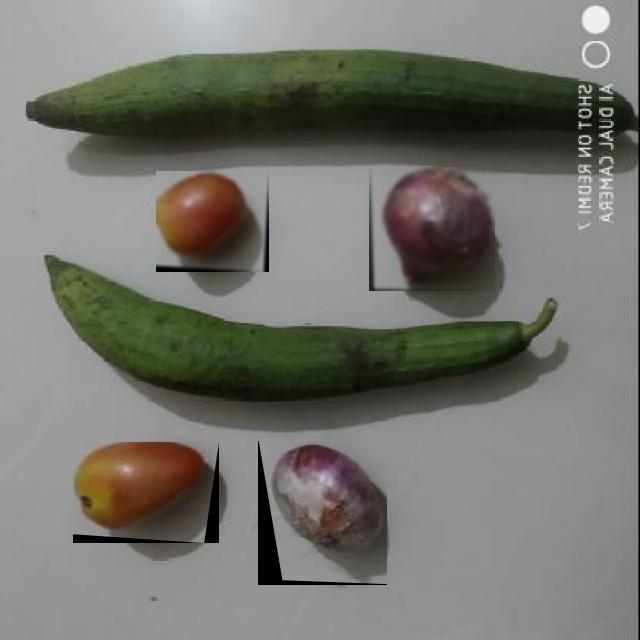onion: (258, 441, 387, 585), (368, 167, 494, 291)
tomato: (73, 442, 219, 543), (156, 171, 269, 272)
